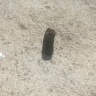Dog: (42, 27, 56, 61)
